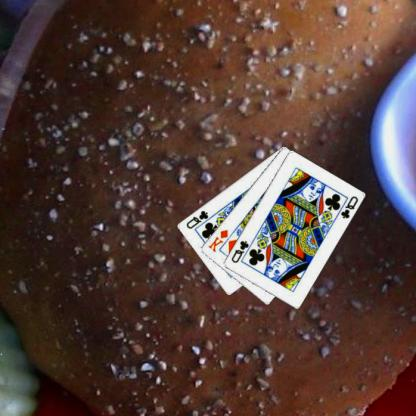KD: (208, 226, 230, 254)
QC: (185, 208, 211, 230), (230, 238, 252, 264), (340, 194, 361, 220)
